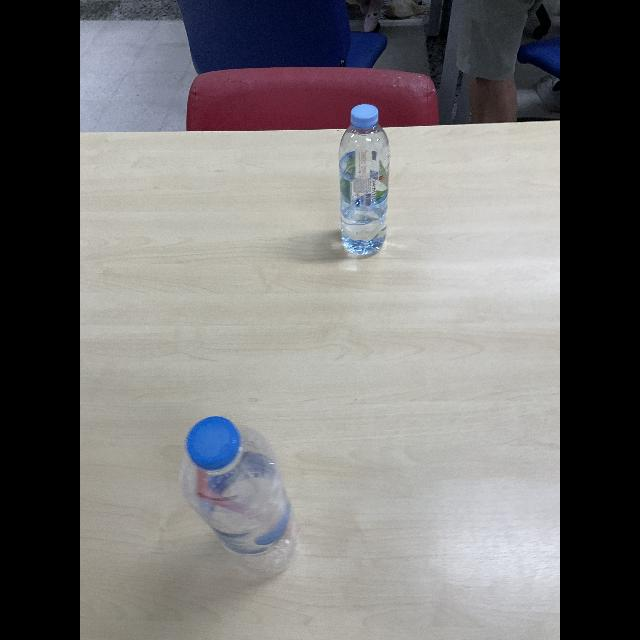plastic_bottle: (180, 414, 302, 584), (340, 102, 390, 258)
